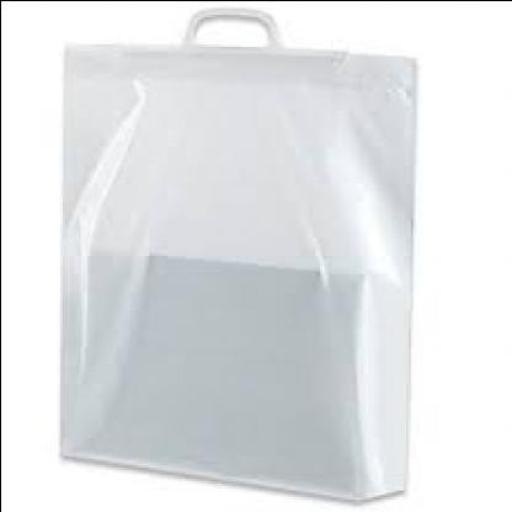plastic: (59, 5, 421, 498)
